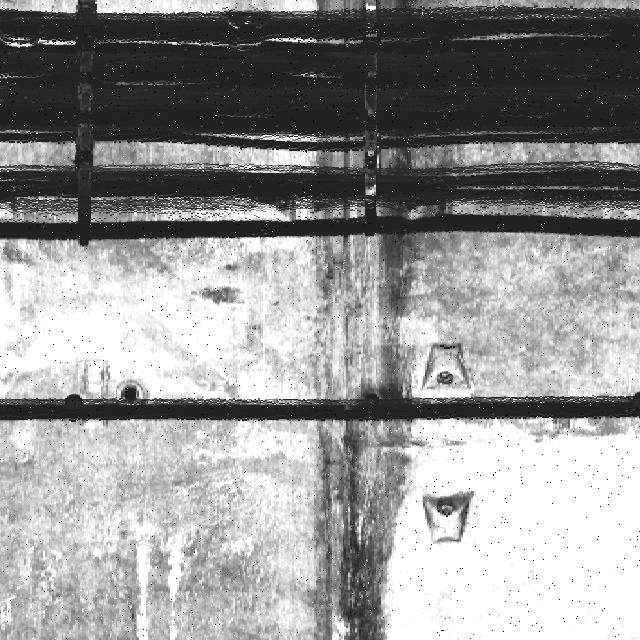leakage: (294, 138, 432, 640)
